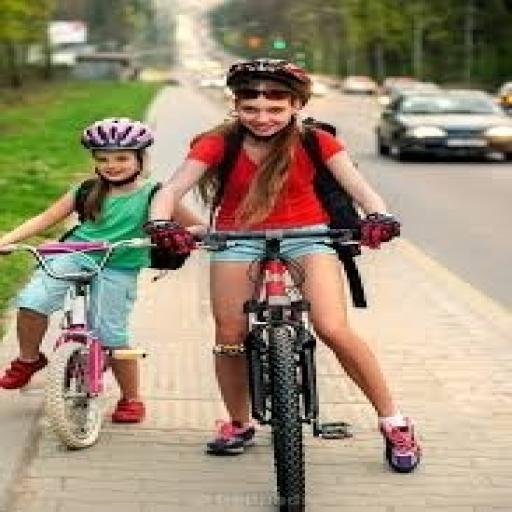cycling: (146, 56, 428, 475), (0, 116, 204, 426)
